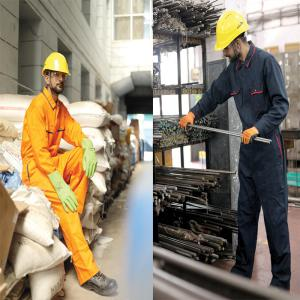yellow: (216, 10, 250, 62), (45, 54, 70, 95)
